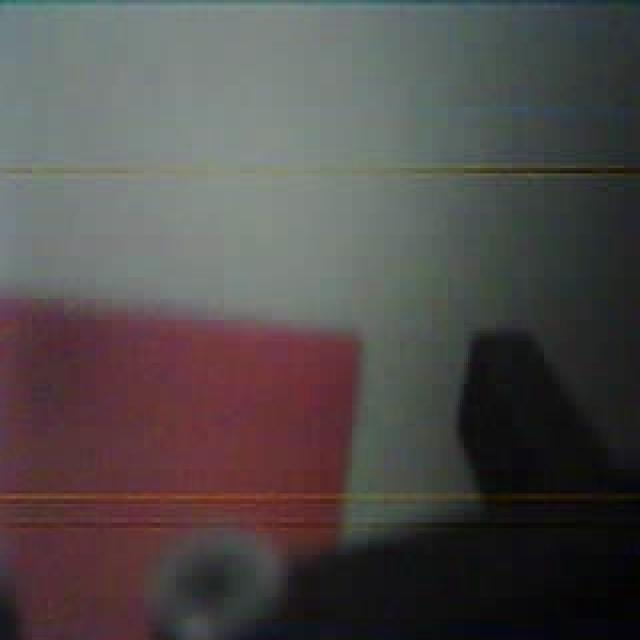red_box: (0, 289, 374, 640)
